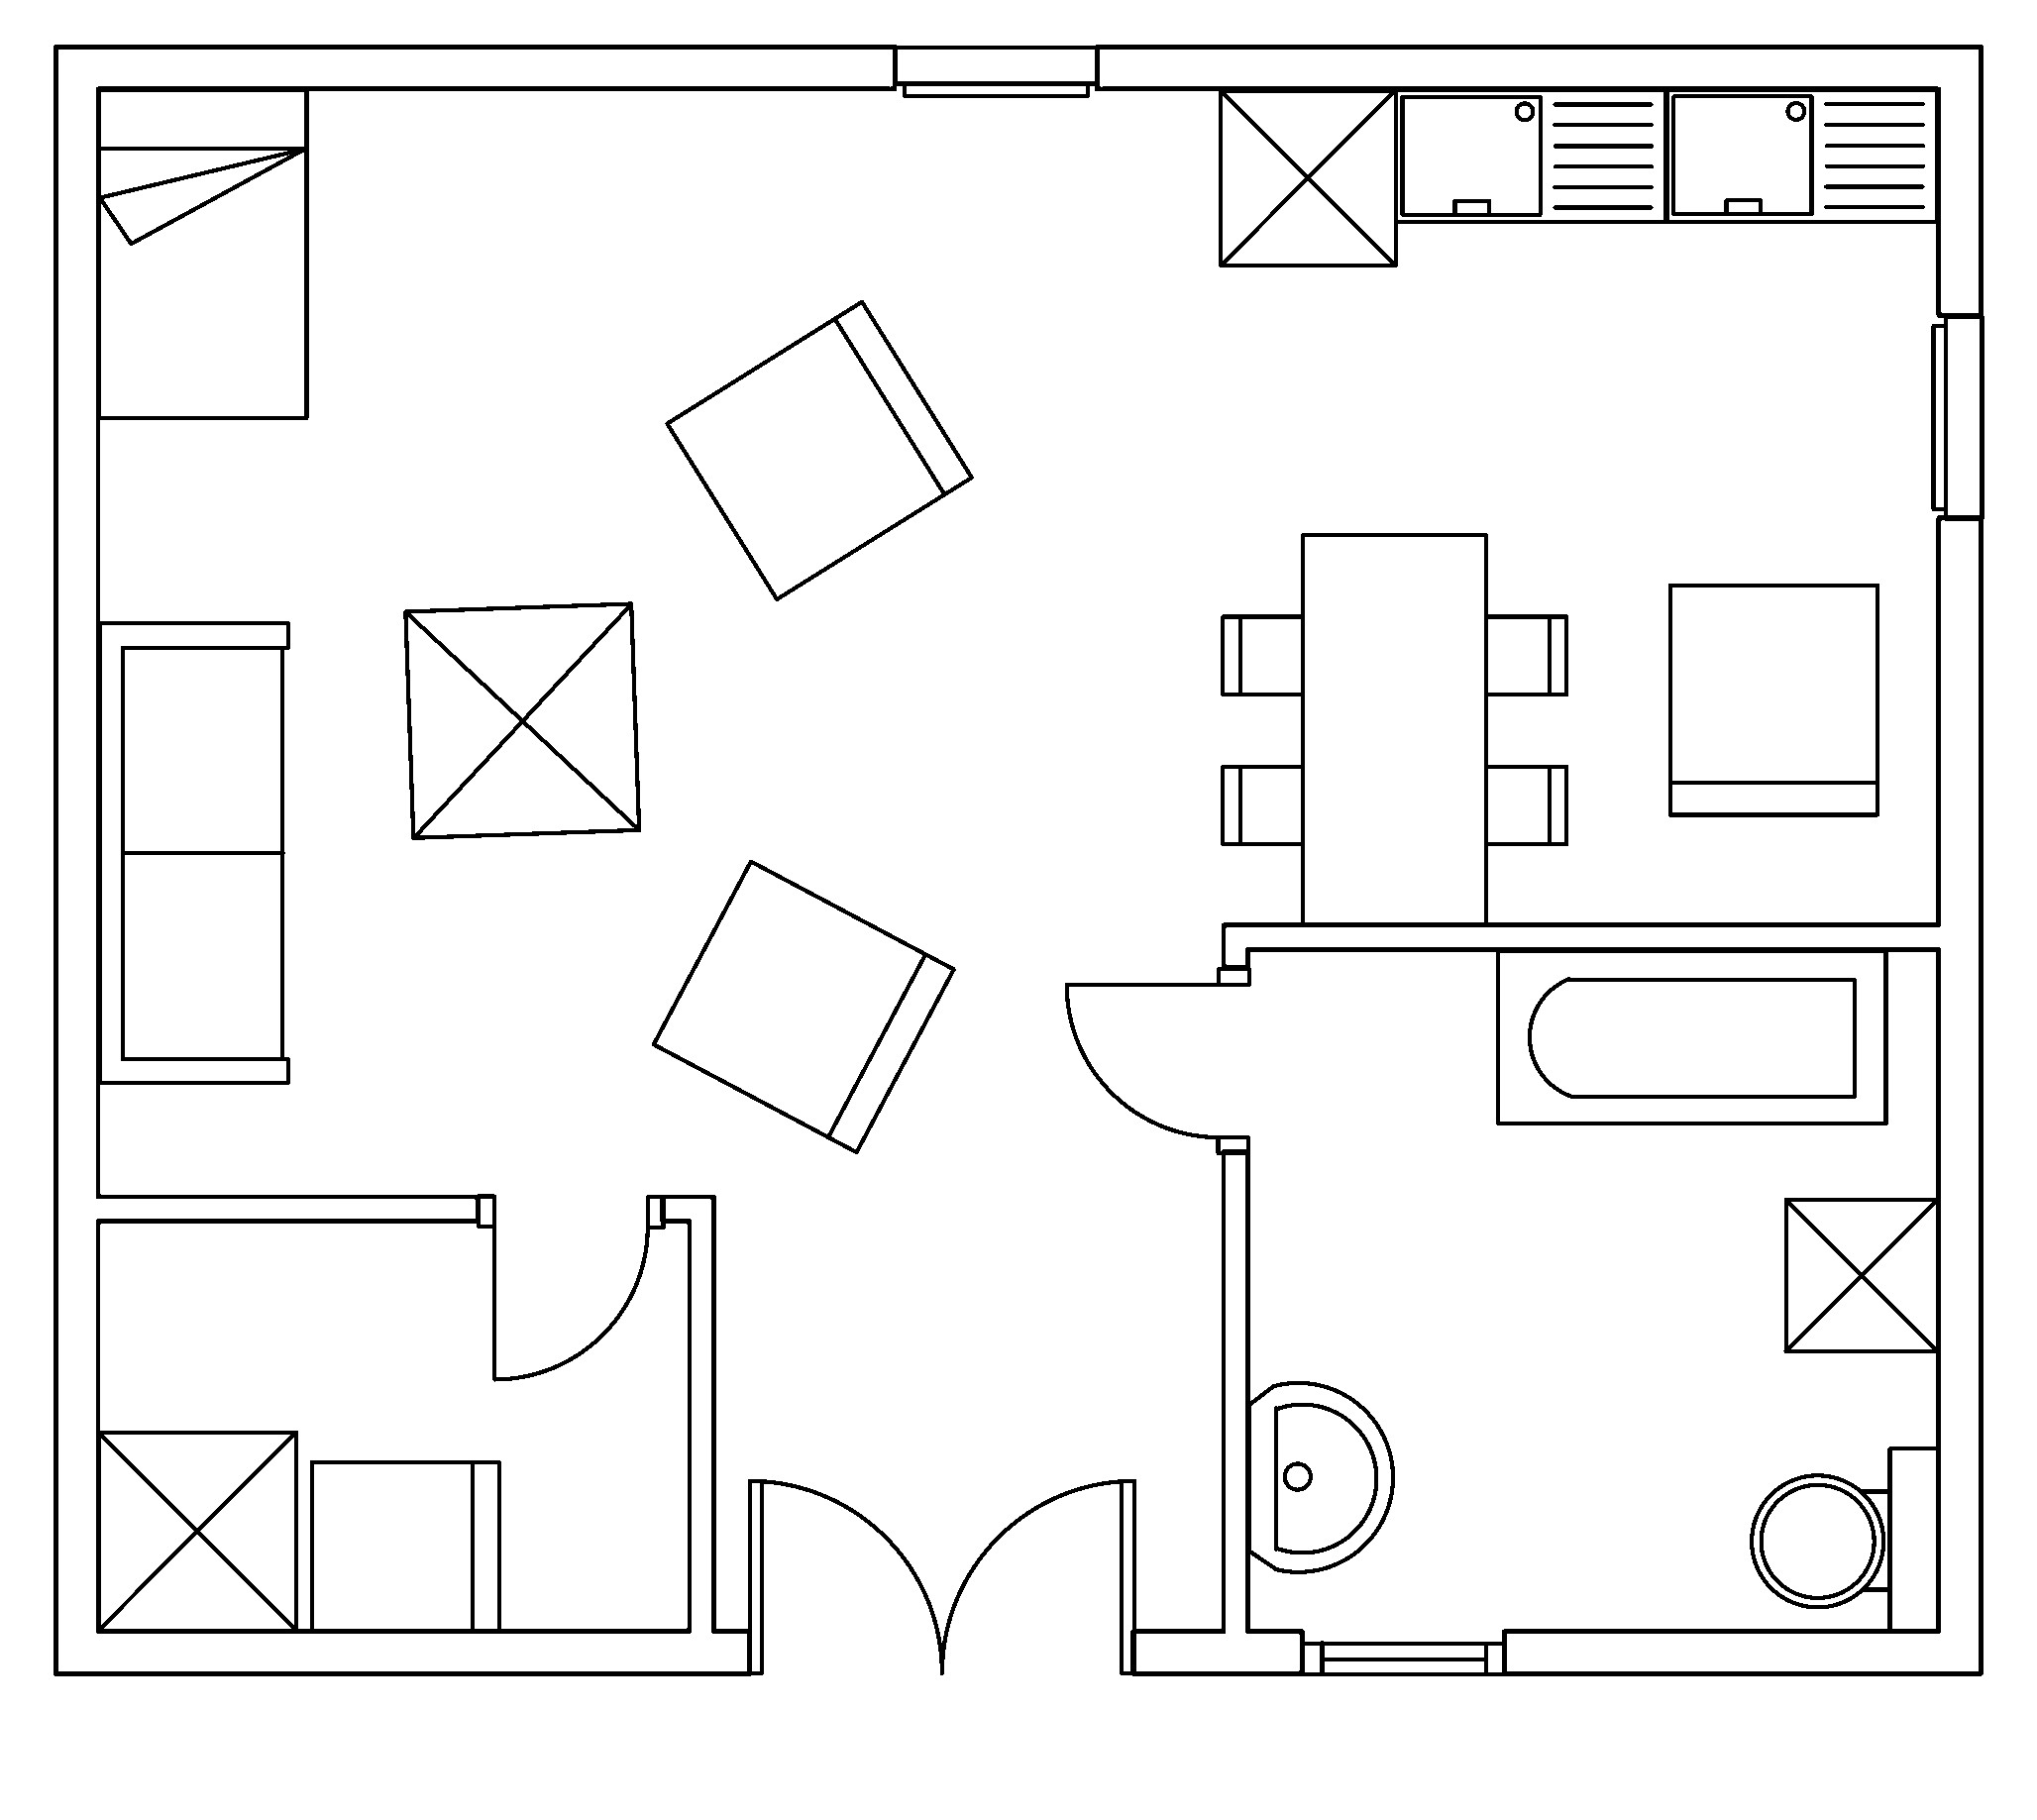bed: (95, 86, 309, 420)
coffee_table: (402, 599, 643, 840), (95, 1428, 299, 1632), (1217, 86, 1398, 267), (1781, 1196, 1940, 1353)
dining_table: (1219, 531, 1568, 926)
large_sink: (1749, 1444, 1940, 1632)
large_sofa: (97, 618, 290, 1086)
sink: (1663, 86, 1940, 223), (1393, 86, 1668, 223)
small_sink: (1245, 1381, 1394, 1572)
small_sofa: (662, 299, 975, 601), (650, 857, 955, 1154), (1666, 580, 1879, 817), (307, 1458, 500, 1632)
tub: (1494, 947, 1888, 1126)
